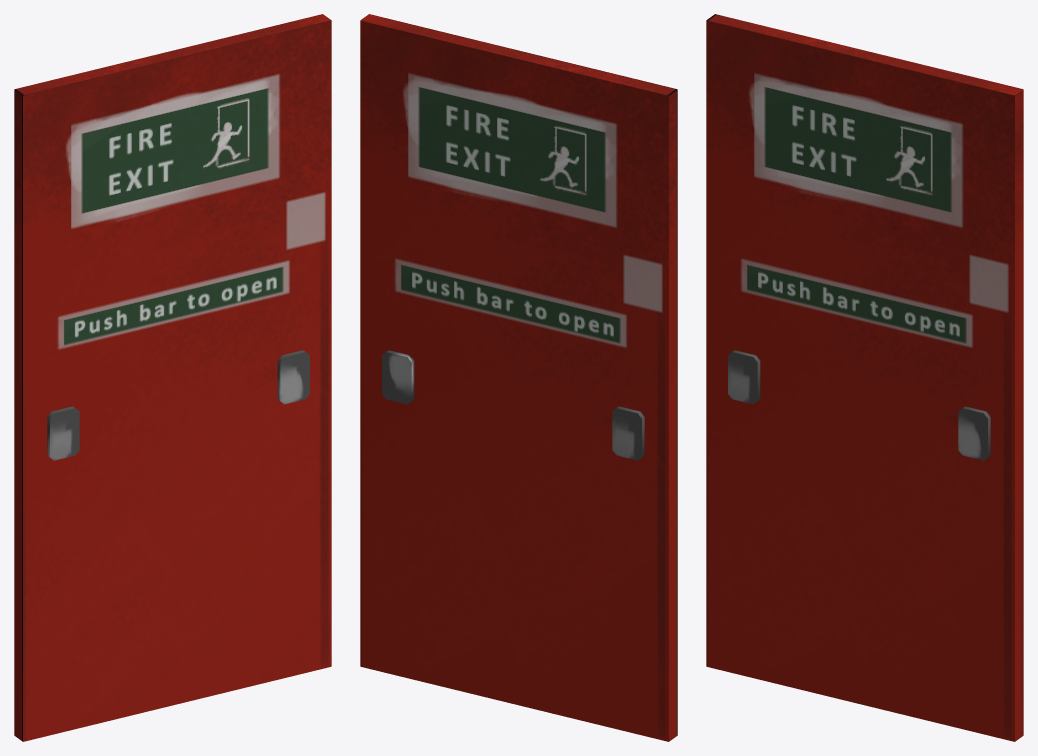
The model's file is FireExit_Asset.fbx.
The picture shows the model from 3 angles, left to right: view 1: azimuth 30°, elevation 25°; view 2: azimuth 150°, elevation 25°; view 3: azimuth 330°, elevation 25°; orthographic projection.
Parts seen in each view (by area): view 1: FireExitDoor; view 2: FireExitDoor; view 3: FireExitDoor.
Part boxes in pixels (<box>): FireExitDoor: <box>14,14,331,741</box>; FireExitDoor: <box>360,14,677,741</box>; FireExitDoor: <box>706,14,1023,741</box>.
Bounding box in the file's own units: 100 × 7.89 × 200.
Materials: 1 (1 with a texture image).
